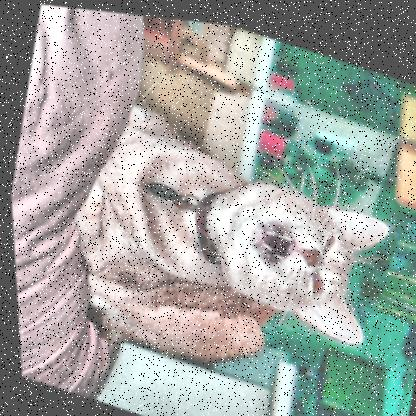cat: (187, 157, 395, 350)
